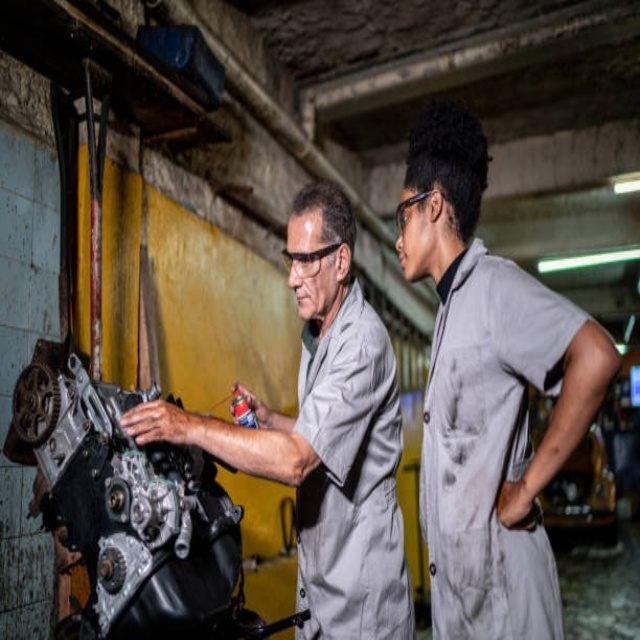Gafas: (282, 241, 344, 275), (396, 190, 440, 236)
Sin_guantes: (116, 395, 189, 453), (498, 456, 543, 532)
Sin_mascara: (291, 285, 315, 320), (396, 242, 418, 275)
